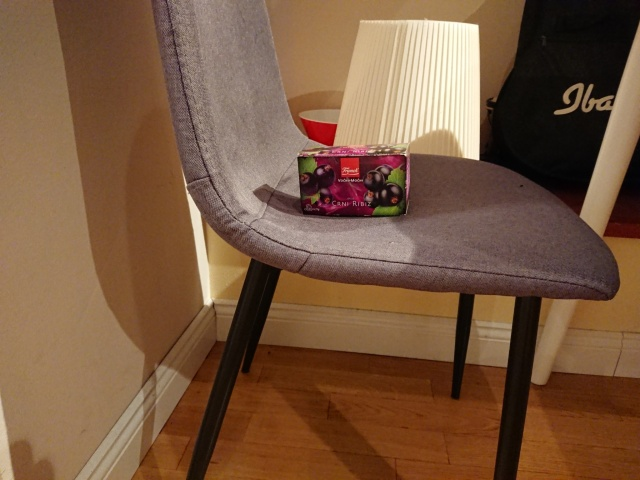Franck Black Currant Tea 60g: (294, 141, 413, 219)
